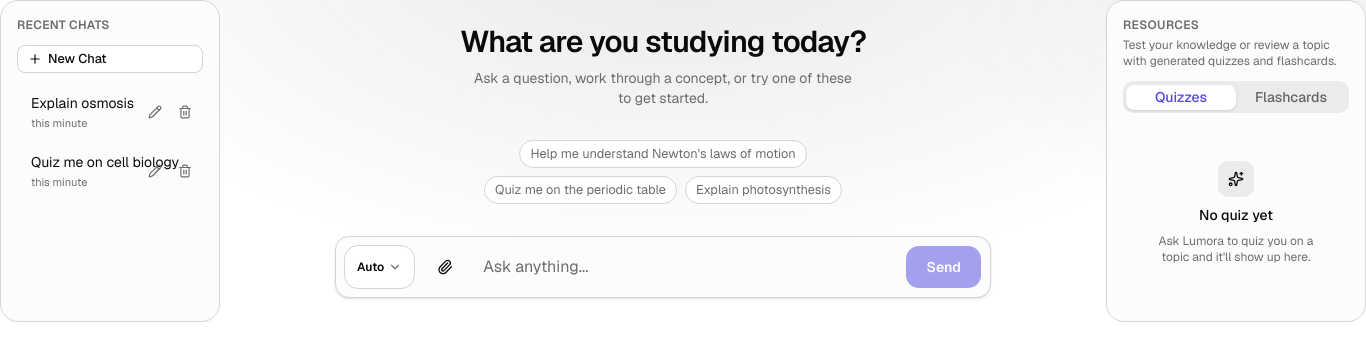
Recent Chats — rename and delete › renaming updates the row in place
Click the 1st button named "Rename conversation" at (155, 112), box [141, 98, 169, 126]
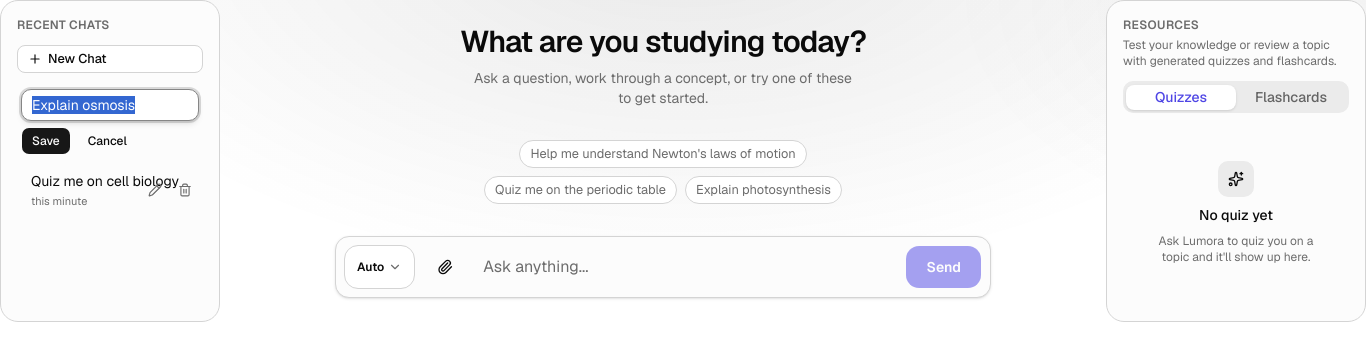
Replace the text in the field named "Conversation title" with "Osmosis notes" at (110, 105), box [21, 89, 199, 121]
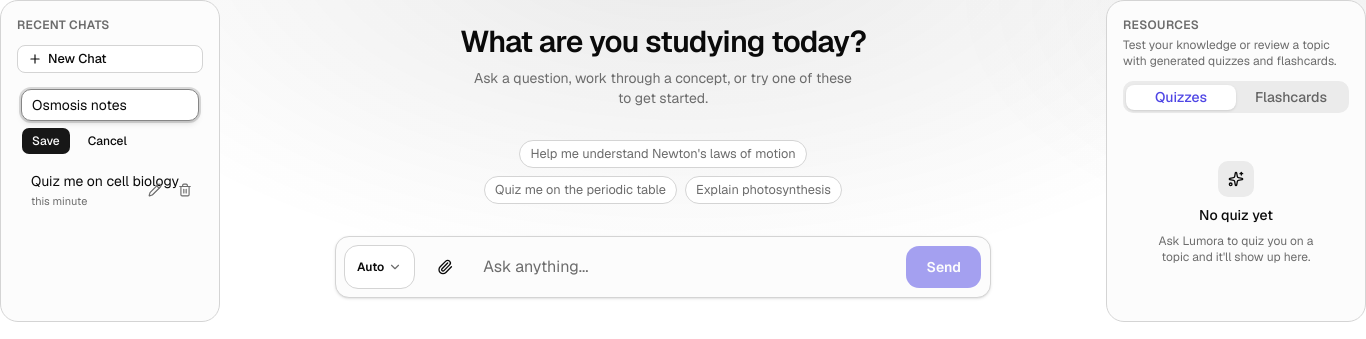
Submit the form from the field named "Conversation title", box [21, 89, 199, 121]
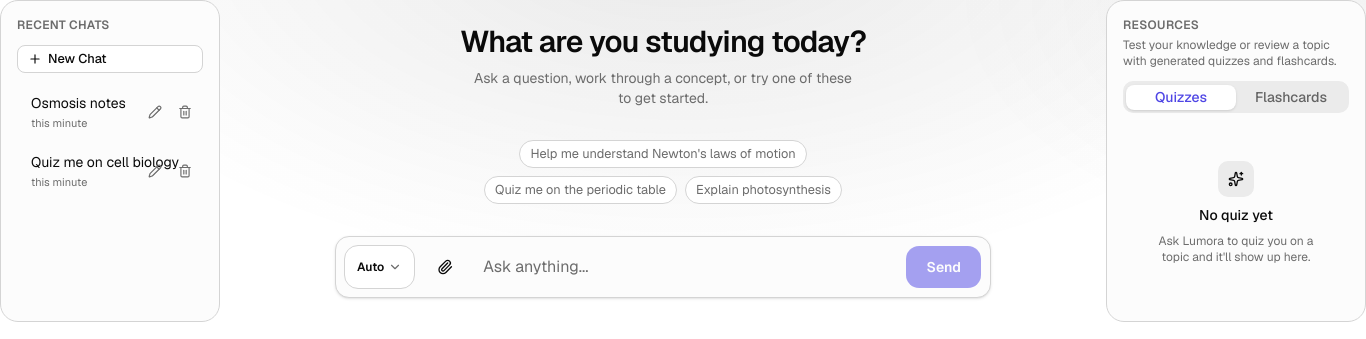
Check: the button "Osmosis notes this minute" is shown, box [17, 85, 203, 140]
